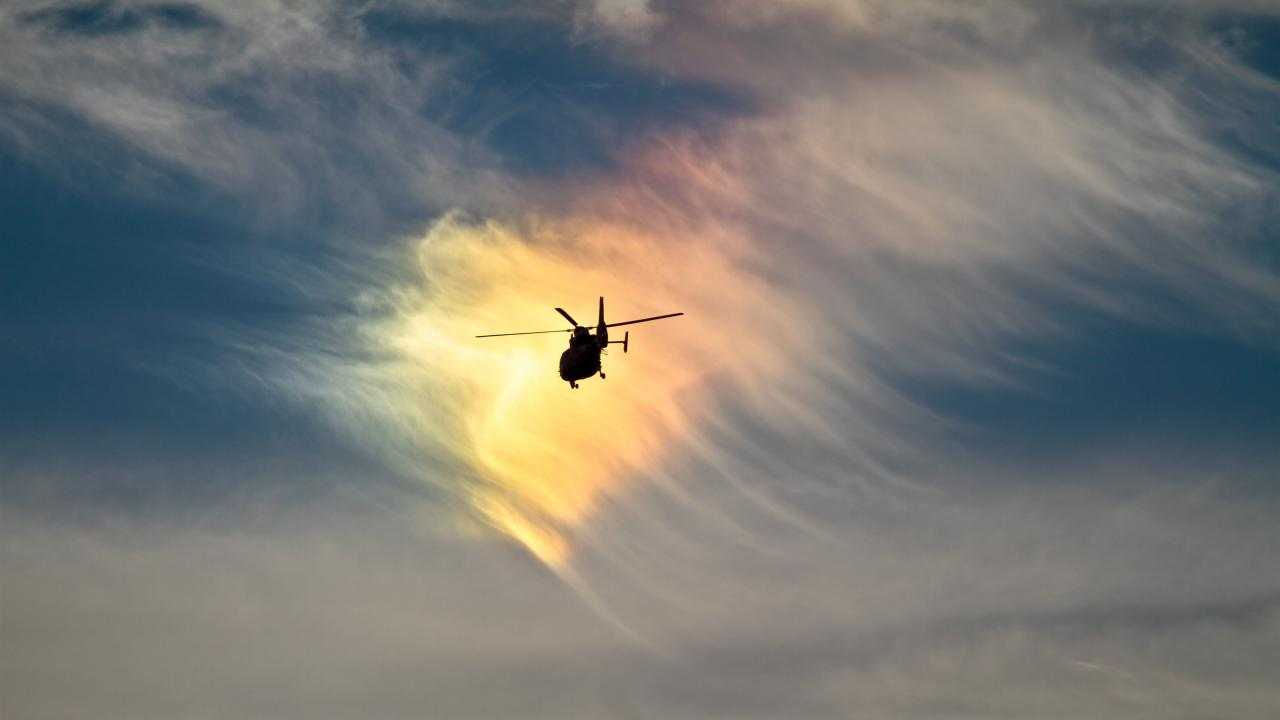Helicopter: (443, 284, 698, 397)
